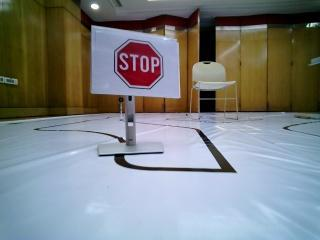stop: (96, 27, 173, 100)
